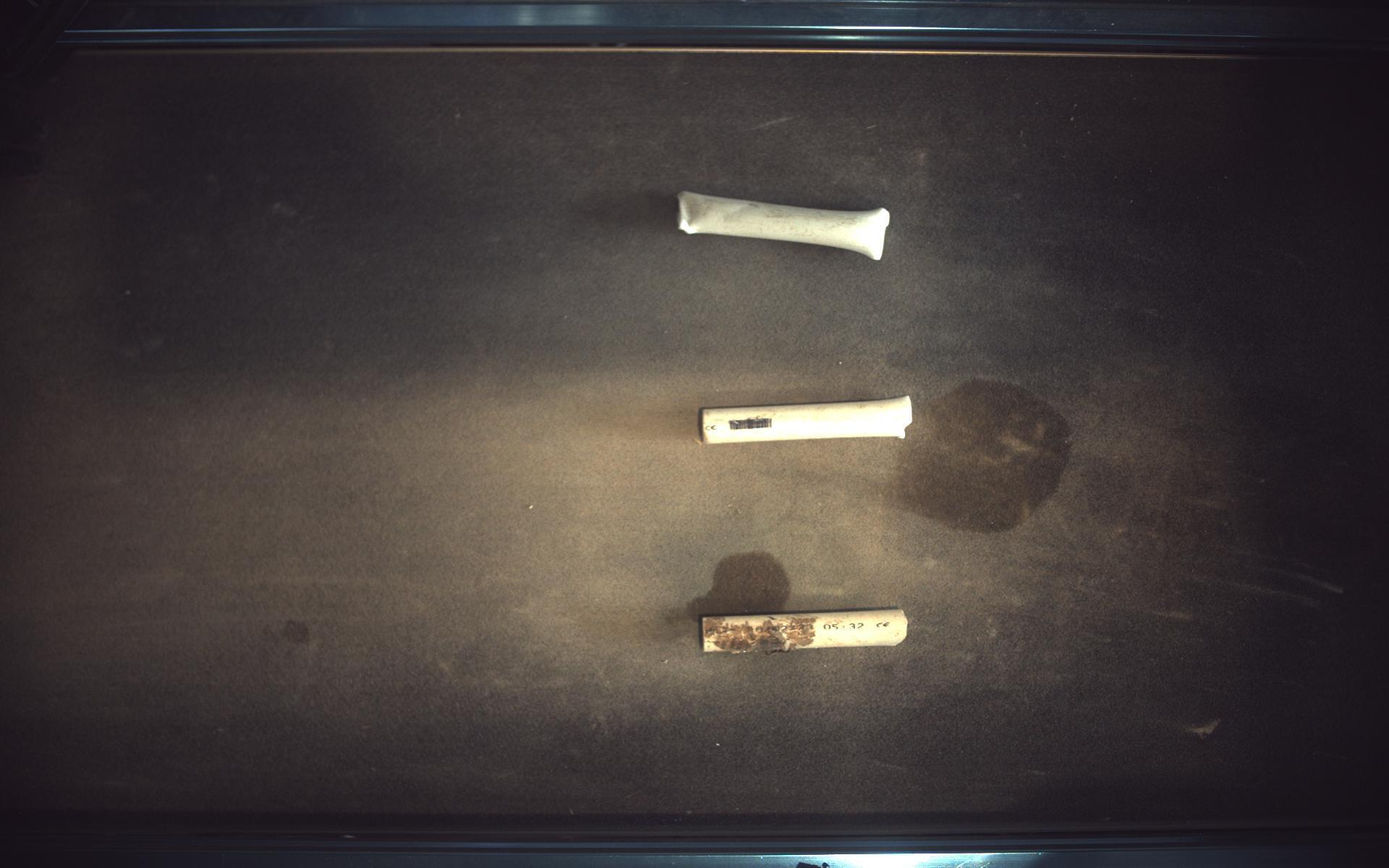pipes: (679, 190, 892, 260), (701, 396, 914, 444), (702, 609, 909, 654)
